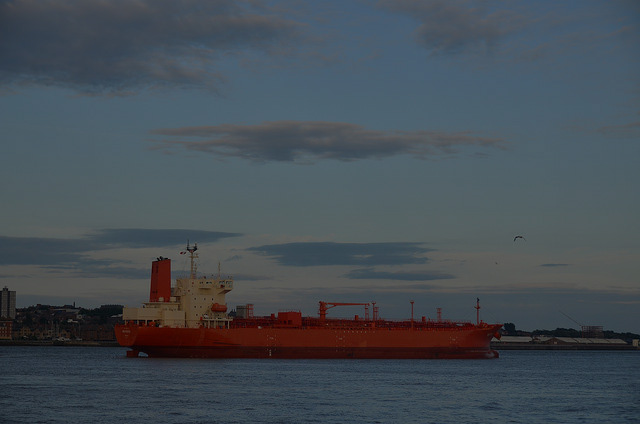tanker: (113, 245, 507, 359)
